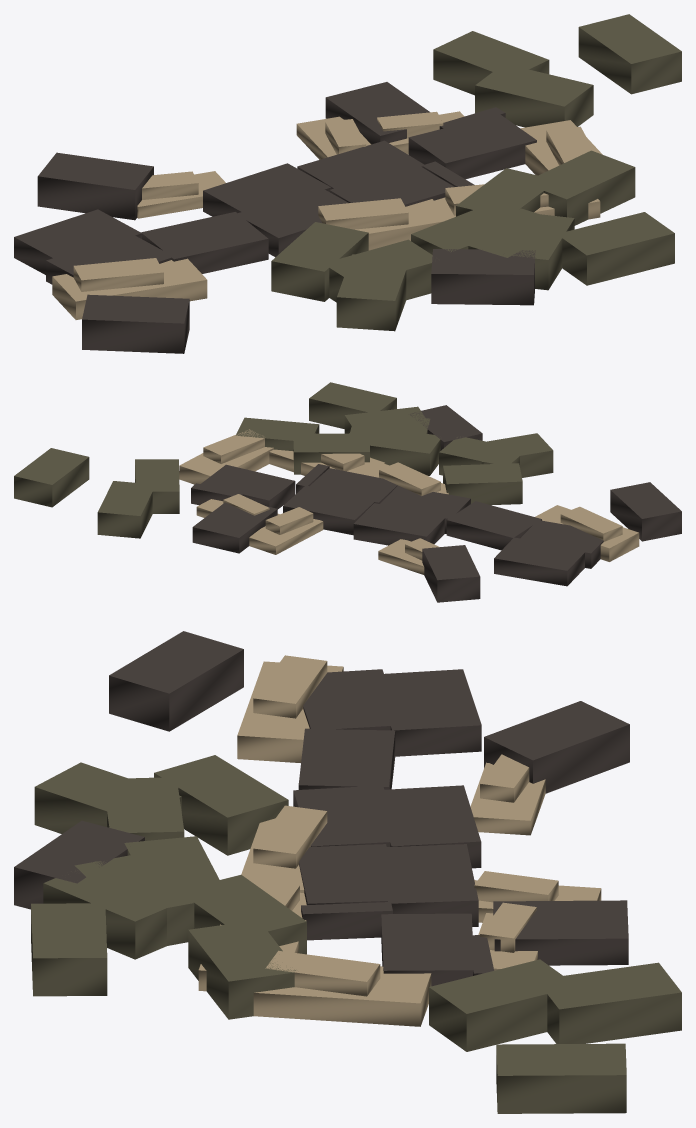
Rendered from SM_SacosRemateEspejo_v0_Recto_e3_Brecha_LOD0.fbx.
3 renders of one model, top to bottom at view 1: azimuth 30°, elevation 25°; view 2: azimuth 150°, elevation 25°; view 3: azimuth 270°, elevation 25°, orthographic. The views are drawn at different scales.
Parts seen in each view (by area): view 1: SM_sacos_piezas_v23_LOD0; view 2: SM_sacos_piezas_v23_LOD0; view 3: SM_sacos_piezas_v23_LOD0.
Part boxes in pixels (x1=…): SM_sacos_piezas_v23_LOD0: x1=14, y1=14, x2=681, y2=353; SM_sacos_piezas_v23_LOD0: x1=14, y1=382, x2=681, y2=602; SM_sacos_piezas_v23_LOD0: x1=14, y1=631, x2=681, y2=1113.
Size of the model in its own units: 6.52 by 0.26 by 4.14.
